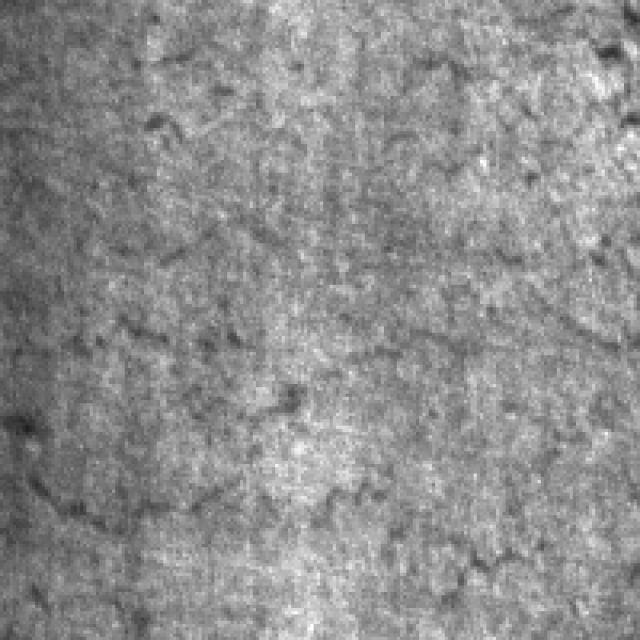crazing: (3, 310, 627, 576), (144, 32, 640, 262)
